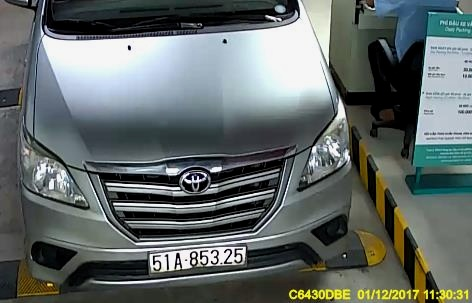plate: (144, 245, 253, 275)
